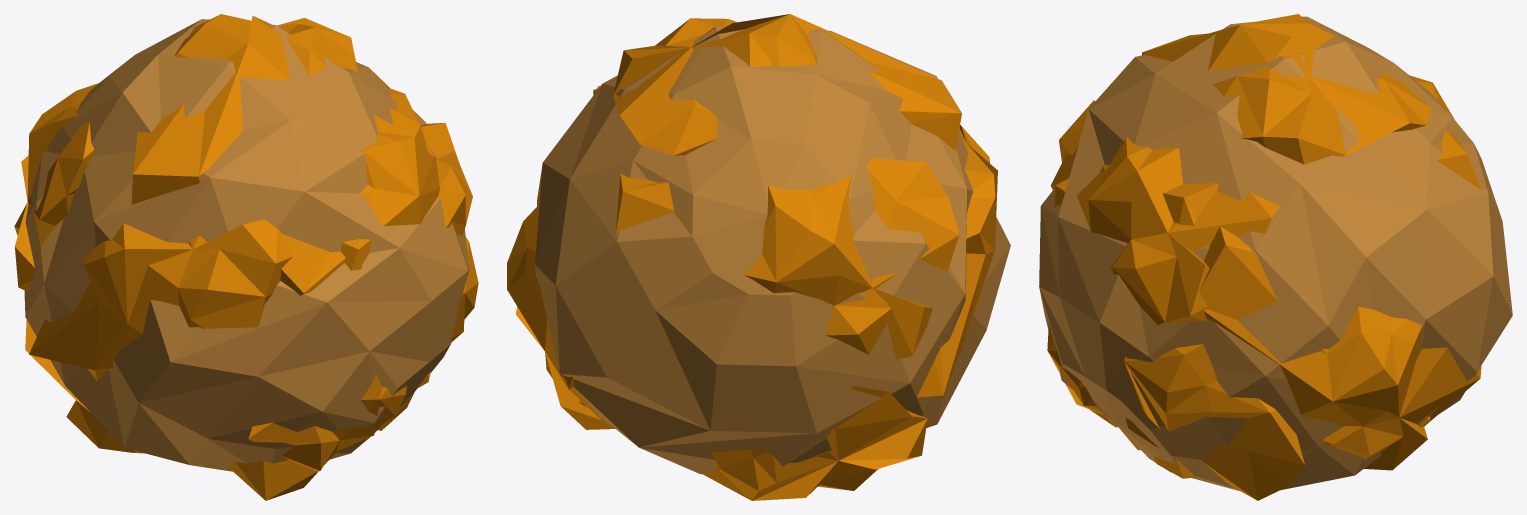
3 renders of one model, left to right at view 1: azimuth 30°, elevation 25°; view 2: azimuth 150°, elevation 25°; view 3: azimuth 270°, elevation 25°, orthographic. The views are drawn at different scales.
Parts seen in each view (by area): view 1: node_MeshObject-1631424384-PolyPaper13; view 2: node_MeshObject-1631424384-PolyPaper13; view 3: node_MeshObject-1631424384-PolyPaper13.
Part boxes in pixels (box(x1,y1,x2,y2)): node_MeshObject-1631424384-PolyPaper13: box(14, 14, 478, 500); node_MeshObject-1631424384-PolyPaper13: box(507, 14, 1010, 500); node_MeshObject-1631424384-PolyPaper13: box(1039, 14, 1512, 500).
Bounding box in the file's own units: 0.2737 × 0.2856 × 0.2748.
